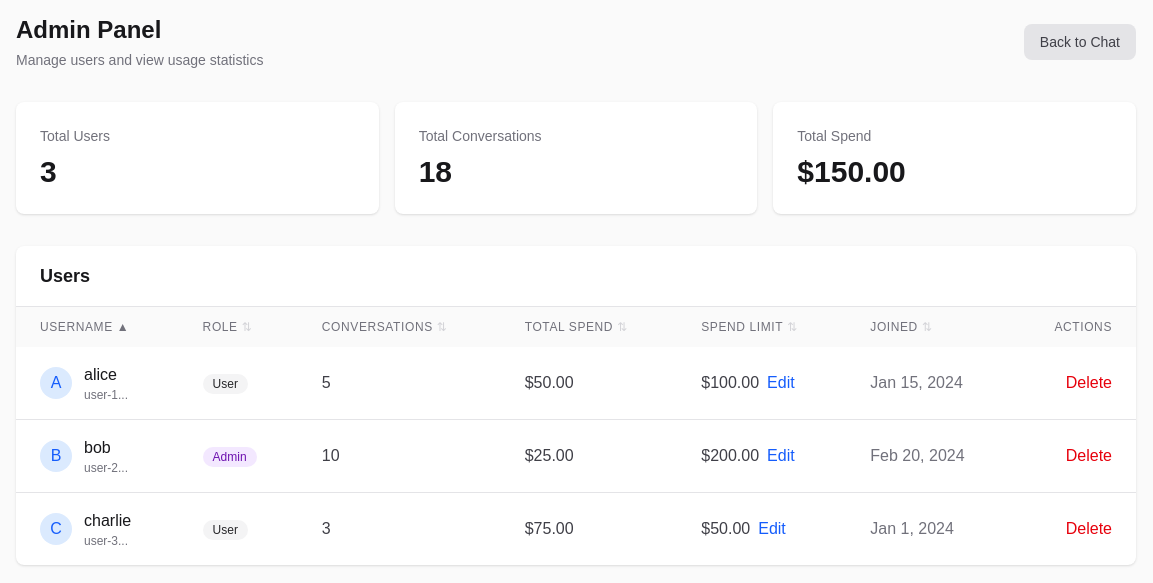
Test: AdminPage › Column Sorting › toggles sort direction when clicking the same column
Expected: the heading "Admin Panel" is shown, top-left (16, 16), bottom-right (161, 43)
Note: Click to toggle to descending
What coordinates should you click on to do the following:
click the column heading "Username ▲"
I would click on:
 (97, 327)
Its box is top-left (16, 307), bottom-right (179, 347).
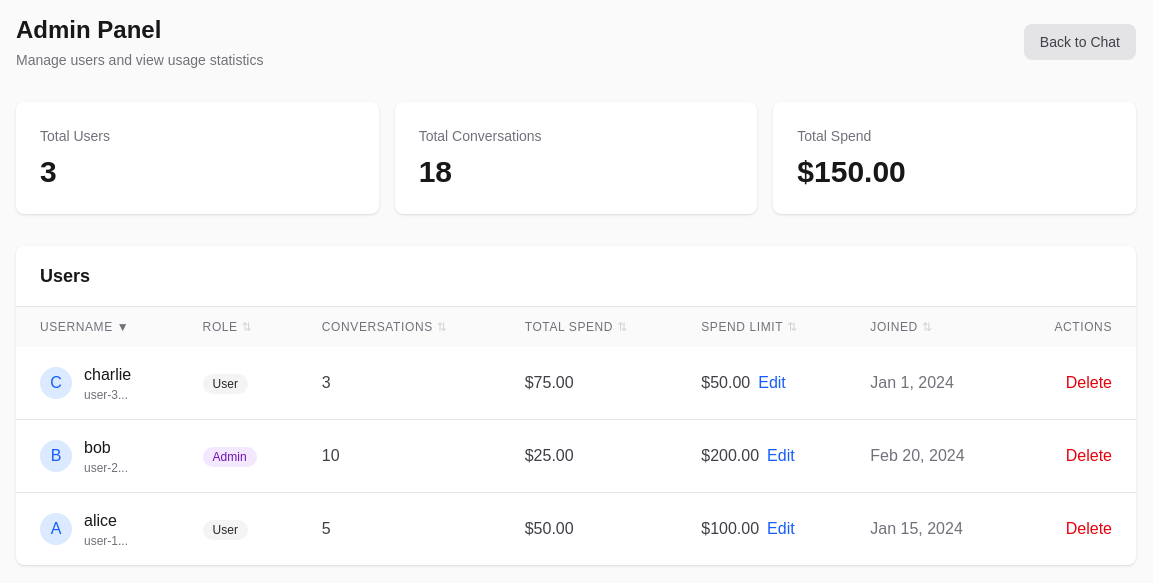
Result: the column heading "Username ▼" is shown at top-left (16, 307), bottom-right (179, 347)
